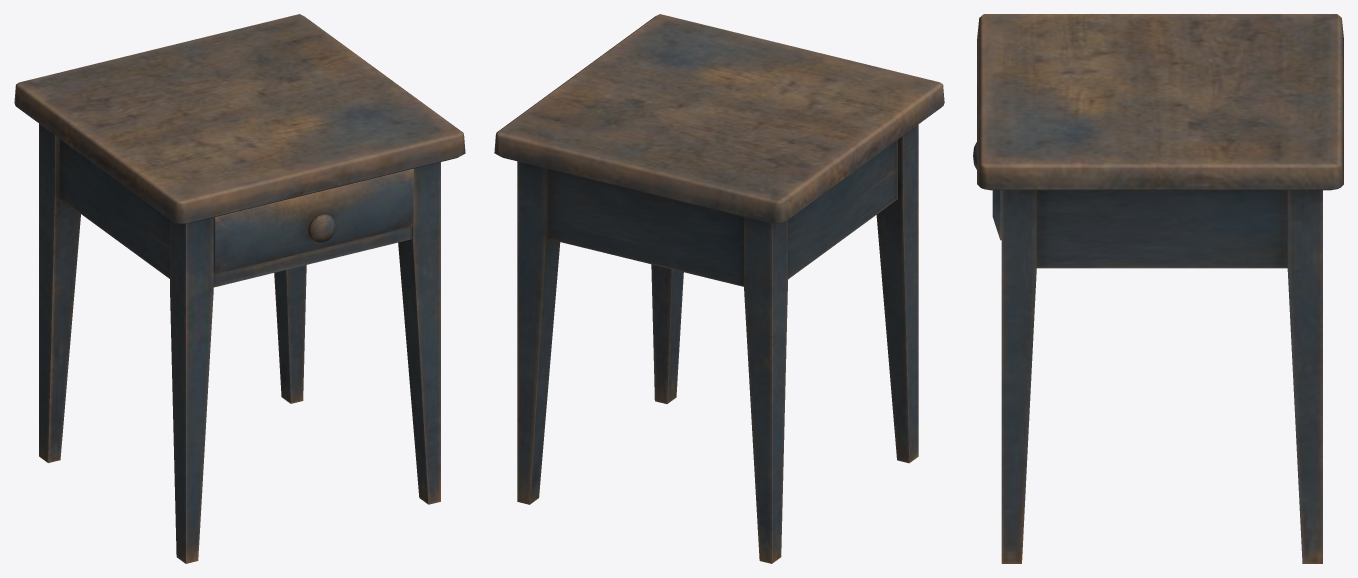
File: painted_wooden_nightstand.glb
3 views of the same model, side by side, from view 1: azimuth 30°, elevation 25°; view 2: azimuth 150°, elevation 25°; view 3: azimuth 270°, elevation 25° (orthographic). The views are drawn at different scales.
Parts seen in each view (by area): view 1: painted_wooden_nightstand, painted_wooden_nightstand_drawer; view 2: painted_wooden_nightstand; view 3: painted_wooden_nightstand, painted_wooden_nightstand_drawer.
Part boxes in pixels (x1,y1,x2,y2): painted_wooden_nightstand: [14, 14, 465, 563]; painted_wooden_nightstand_drawer: [213, 168, 413, 274]; painted_wooden_nightstand: [494, 14, 944, 563]; painted_wooden_nightstand: [977, 14, 1343, 563]; painted_wooden_nightstand_drawer: [973, 142, 1001, 240].
Size of the model in its own units: 0.5046 by 0.6155 by 0.5087.
1 material, 1 textured.
